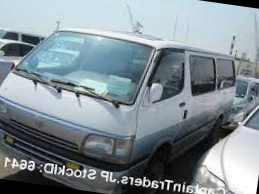van: (0, 17, 243, 194)
